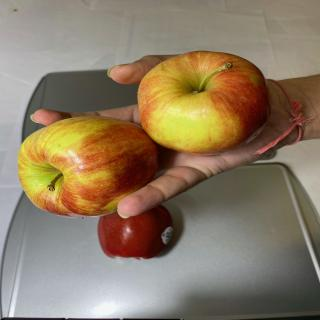Apple: (17, 116, 159, 218), (137, 50, 271, 156)
Tomato: (98, 204, 174, 260)
